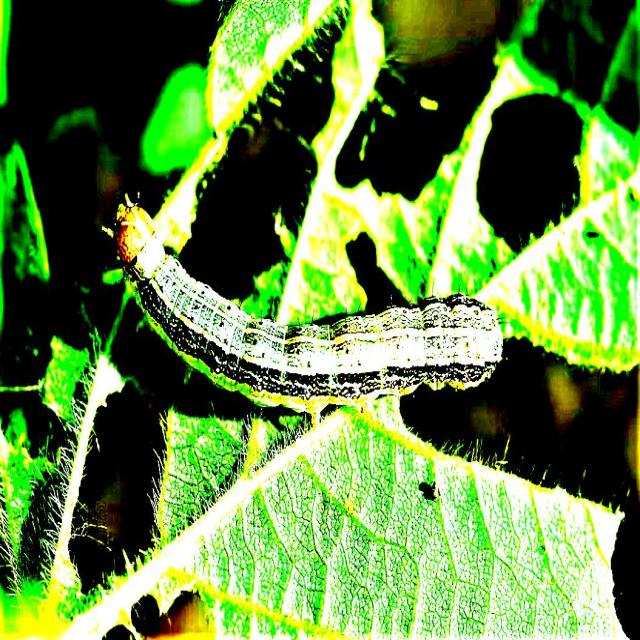Armyworm: (105, 159, 507, 478)
Armyworm_damage: (450, 48, 599, 275)
